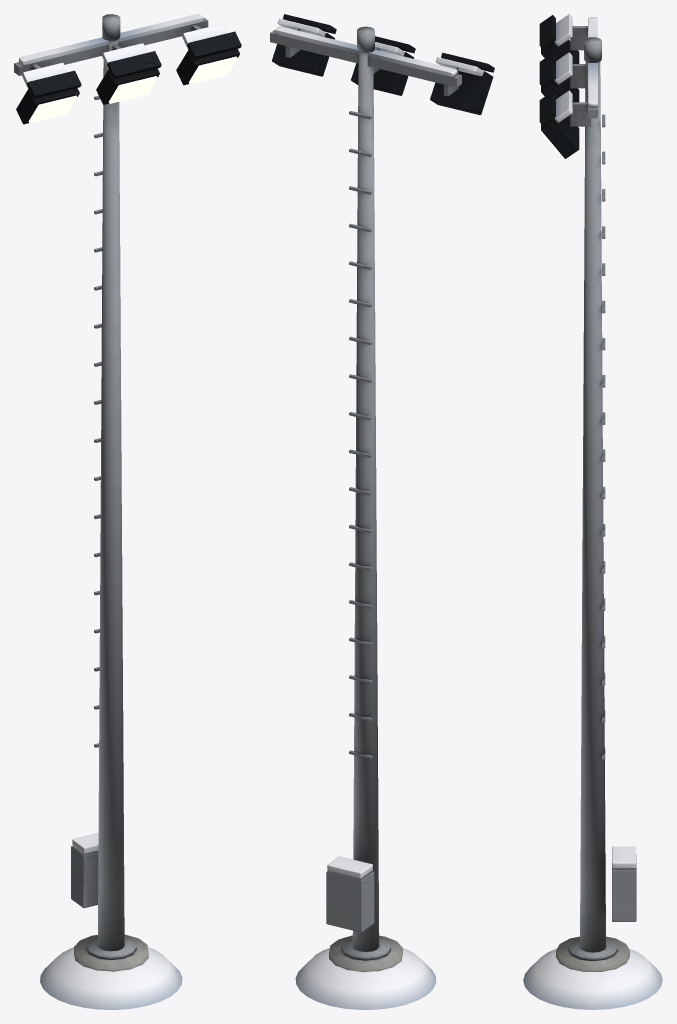
The model's file is slope_light.glb.
The picture shows the model from 3 angles, left to right: view 1: azimuth 30°, elevation 25°; view 2: azimuth 150°, elevation 25°; view 3: azimuth 270°, elevation 25°; orthographic projection. The views are drawn at different scales.
Visible parts, largest first — view 1: slope_light, slope_light_snow, slope_light_lamp; view 2: slope_light, slope_light_snow; view 3: slope_light, slope_light_snow.
Part boxes in pixels (bbox=[...]): slope_light: bbox=[14, 14, 241, 971]; slope_light_snow: bbox=[18, 14, 227, 1009]; slope_light_lamp: bbox=[28, 56, 237, 123]; slope_light: bbox=[270, 14, 494, 972]; slope_light_snow: bbox=[274, 18, 483, 1009]; slope_light: bbox=[539, 15, 636, 971]; slope_light_snow: bbox=[523, 14, 662, 1009].
Size of the model in its own units: 2.84 by 12.88 by 1.7.
3 materials, 1 textured.
